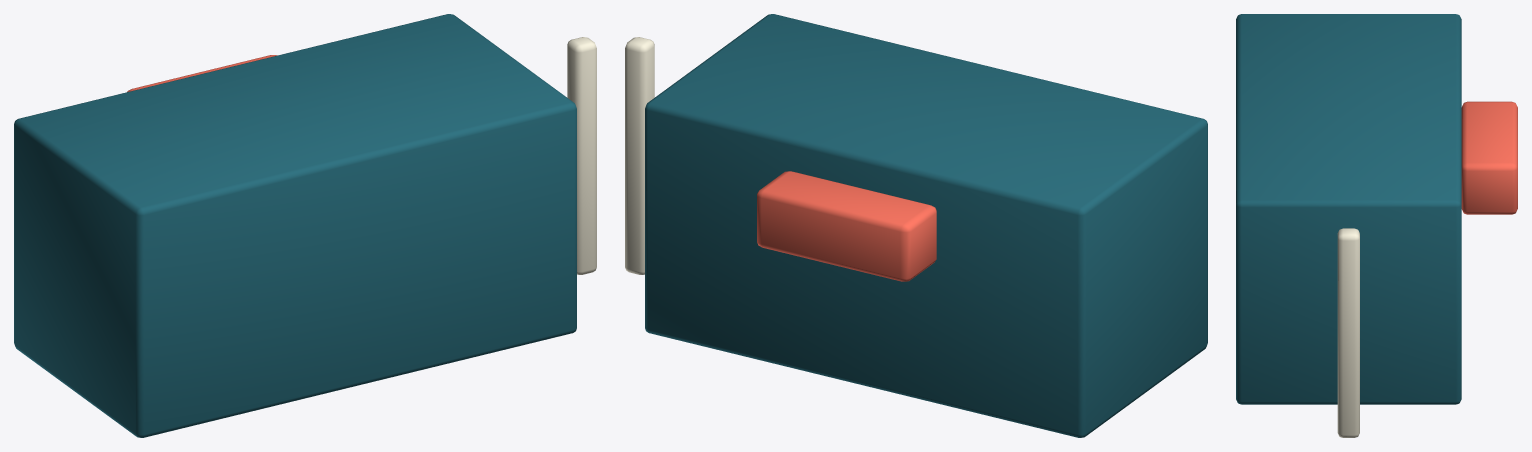
The model's file is s01_static.glb.
3 renders of one model, left to right at view 1: azimuth 30°, elevation 25°; view 2: azimuth 150°, elevation 25°; view 3: azimuth 270°, elevation 25°, orthographic. The views are drawn at different scales.
Visible parts, largest first — view 1: Body, Meter; view 2: Body, Front, Meter; view 3: Body, Front, Meter.
Boxes of the visible parts, bbox=[...] form: Body: bbox=[14, 14, 576, 437]; Meter: bbox=[567, 37, 596, 274]; Body: bbox=[645, 14, 1207, 437]; Front: bbox=[757, 171, 936, 281]; Meter: bbox=[625, 37, 654, 274]; Body: bbox=[1236, 14, 1461, 404]; Front: bbox=[1461, 101, 1517, 214]; Meter: bbox=[1337, 228, 1359, 437].
Bounding box in the file's own units: 2.35 × 1 × 1.25.
